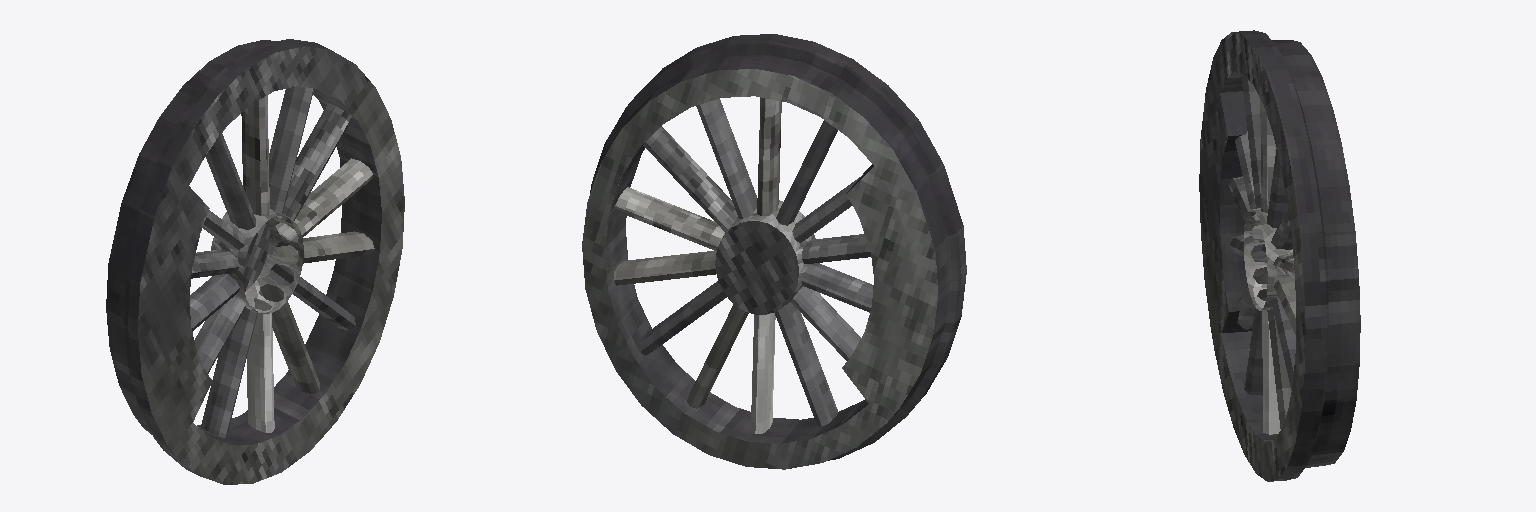
3 renders of one model, left to right at view 1: azimuth 30°, elevation 25°; view 2: azimuth 150°, elevation 25°; view 3: azimuth 270°, elevation 25°, orthographic.
Visible parts, largest first — view 1: LlantaIzq4; view 2: LlantaIzq4; view 3: LlantaIzq4.
Part boxes in pixels (bbox=[...]): LlantaIzq4: bbox=[106, 39, 404, 484]; LlantaIzq4: bbox=[582, 34, 966, 469]; LlantaIzq4: bbox=[1199, 30, 1360, 481].
Bounding box in the file's own units: 0.3156 × 0.3937 × 0.1364.
1 materials, 1 textured.